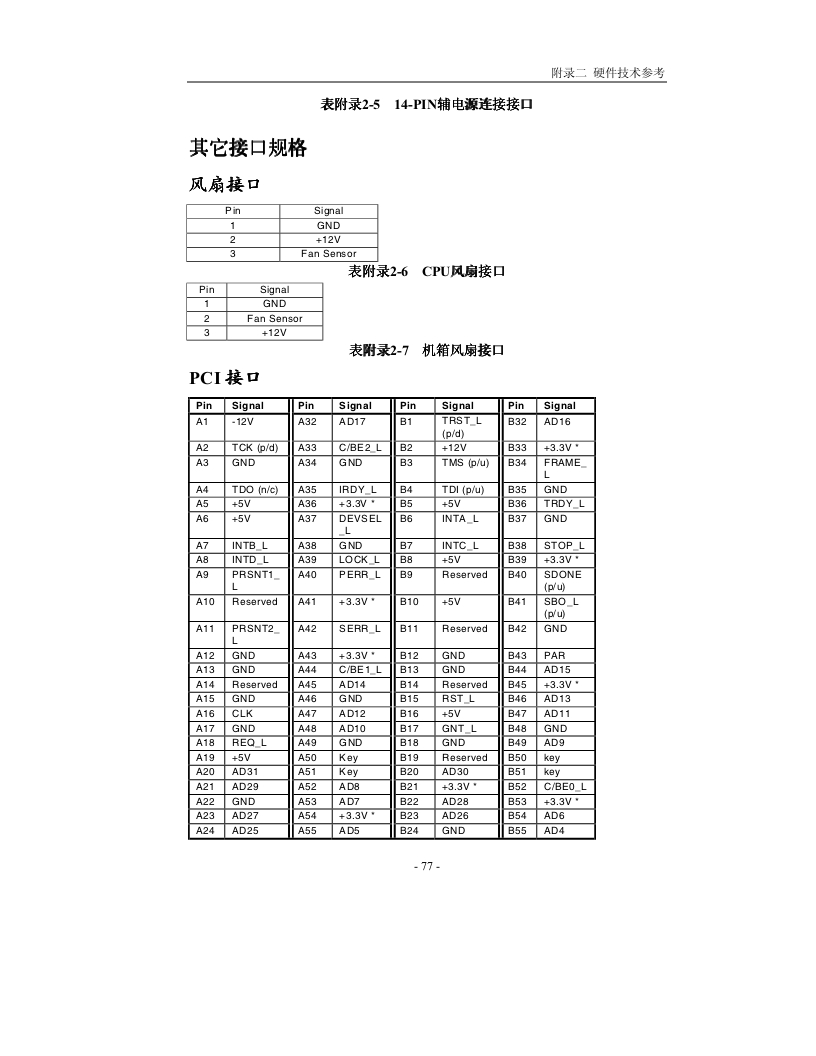table: (187, 397, 597, 840), (186, 204, 378, 261), (186, 282, 323, 340)
